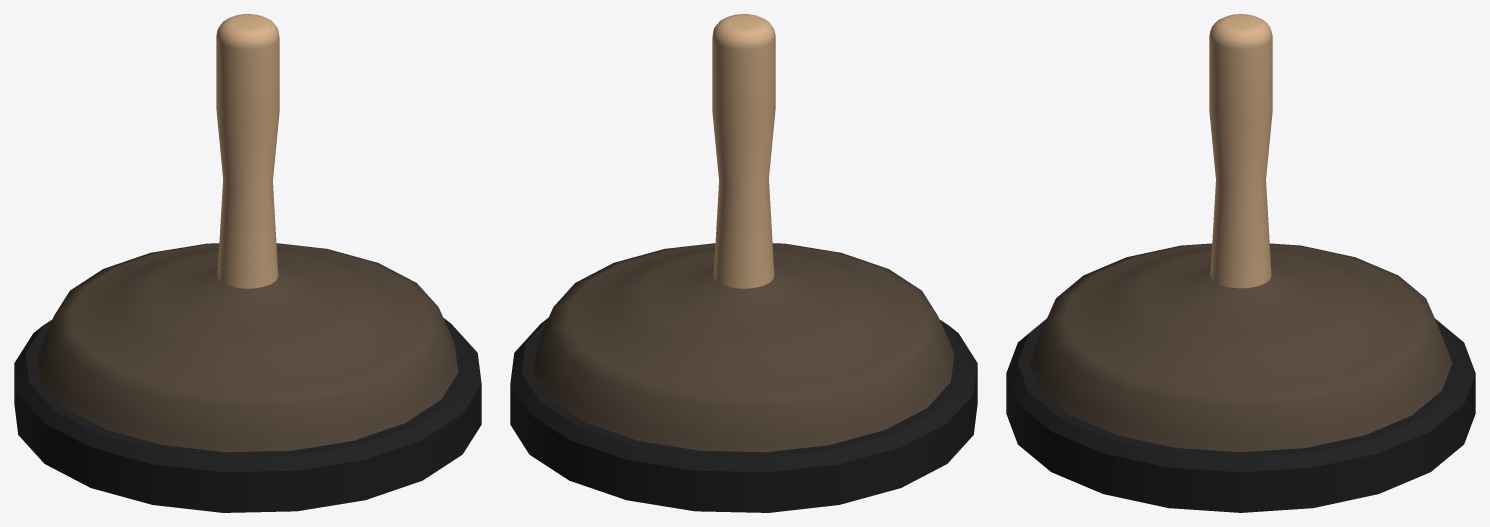
File: eisstock.fbx
3 views of the same model, side by side, from view 1: azimuth 30°, elevation 25°; view 2: azimuth 150°, elevation 25°; view 3: azimuth 270°, elevation 25° (orthographic).
Visible parts, largest first — view 1: pSphere1, pCylinder1, pCylinder2; view 2: pSphere1, pCylinder1, pCylinder2; view 3: pSphere1, pCylinder1, pCylinder2.
Boxes of the visible parts, <box> form: pSphere1: <box>37,243,458,452</box>; pCylinder1: <box>14,318,481,512</box>; pCylinder2: <box>216,14,279,288</box>; pSphere1: <box>533,243,954,452</box>; pCylinder1: <box>510,318,977,512</box>; pCylinder2: <box>712,14,775,288</box>; pSphere1: <box>1030,243,1451,452</box>; pCylinder1: <box>1006,318,1475,512</box>; pCylinder2: <box>1209,14,1272,288</box>.
Bounding box in the file's own units: 2 × 1.84 × 2.
